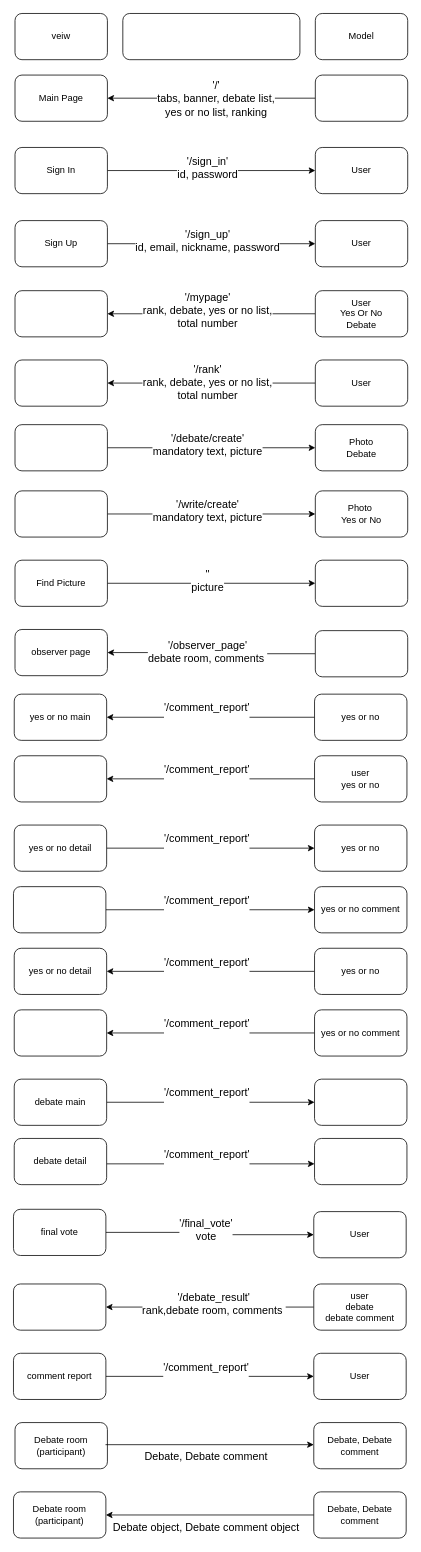
This 421x1552 diagram has some shape labels left out. The shapes that lost their labels are listed below. From the top down, each one's box as (x1, y1, x2, y2) in pixels, then its label:
(122, 13, 300, 60): controller
(315, 74, 408, 121): User Debate Yes Or No Photo
(14, 290, 107, 337): My Page
(14, 359, 107, 406): Rank
(14, 424, 107, 471): Debate Write
(14, 490, 107, 537): Yes or No Write
(315, 559, 408, 606): Photo
(315, 630, 408, 677): Debate Debate comment
(13, 755, 107, 802): objects
(13, 886, 106, 933): comment , user
(13, 1009, 107, 1056): comment objects
(314, 1078, 407, 1125): debate objects
(314, 1138, 407, 1185): debate user
(13, 1283, 106, 1330): debate result
